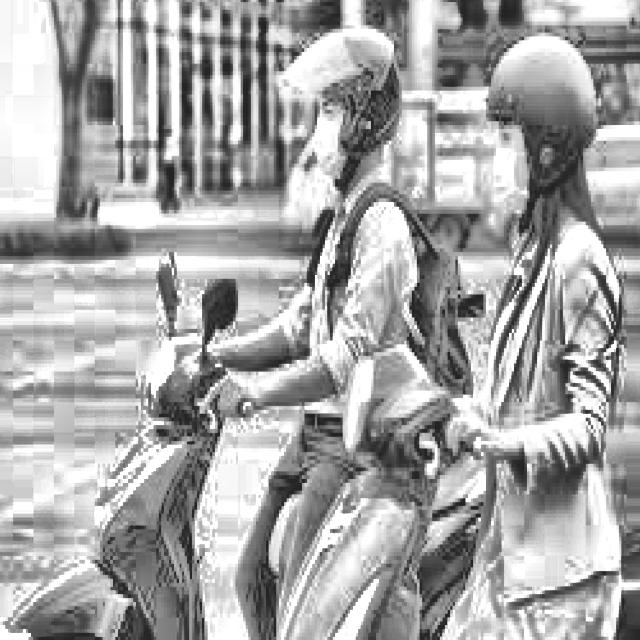Helmet: (476, 35, 600, 242), (280, 21, 403, 201)
